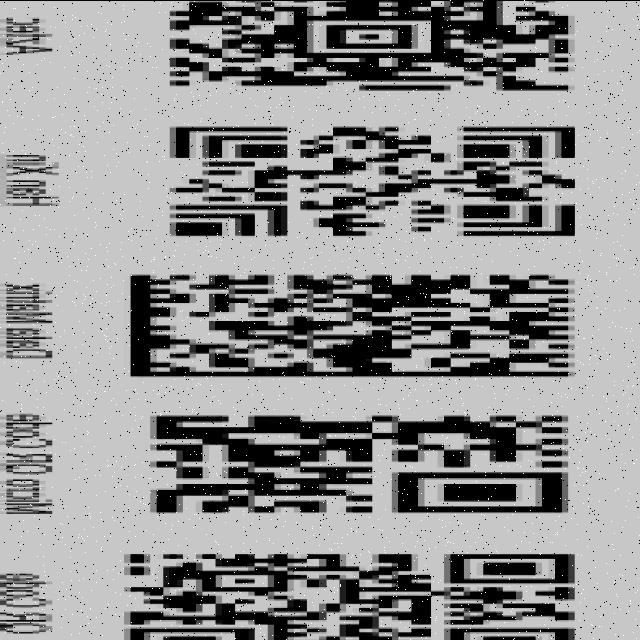datamatrix: (98, 266, 601, 381)
